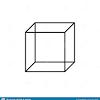cubos: (22, 19, 77, 76)
